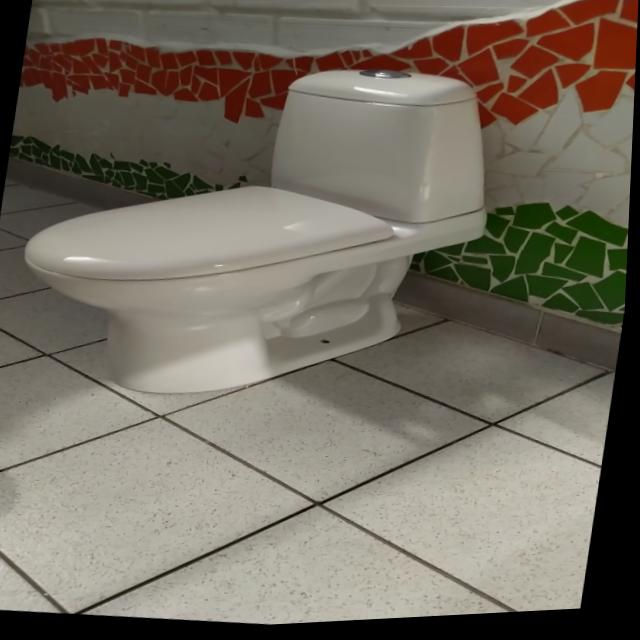toilet: (6, 33, 512, 434)
